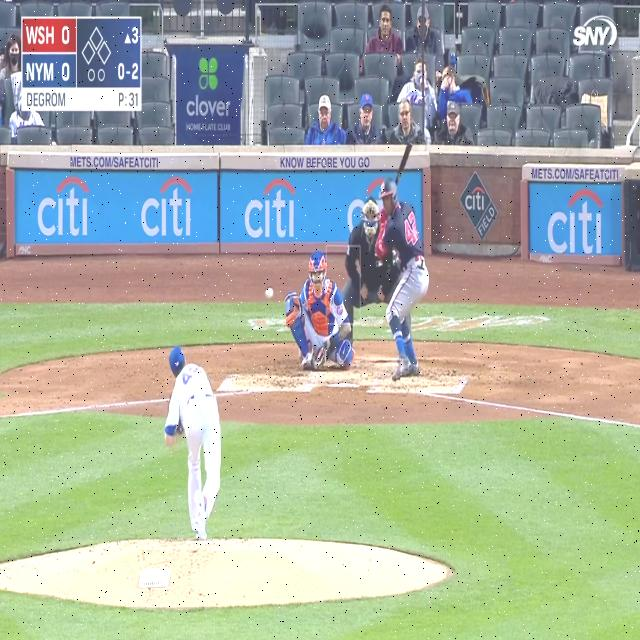baseball: (265, 286, 273, 300)
